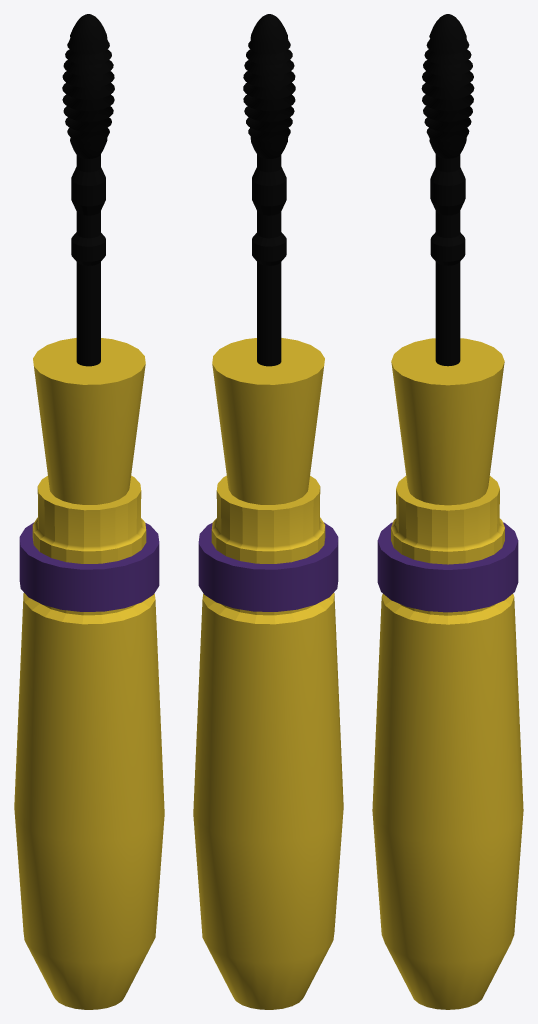
Rendered from colossal.fbx.
3 views of the same model, side by side, from view 1: azimuth 30°, elevation 25°; view 2: azimuth 150°, elevation 25°; view 3: azimuth 270°, elevation 25° (orthographic).
Visible parts, largest first — view 1: pCylinder5, pSphere2; view 2: pCylinder5, pSphere2; view 3: pCylinder5, pSphere2.
Part boxes in pixels (bbox=[...]): pCylinder5: bbox=[14, 475, 164, 1009]; pSphere2: bbox=[33, 14, 145, 504]; pCylinder5: bbox=[193, 475, 343, 1009]; pSphere2: bbox=[212, 14, 324, 504]; pCylinder5: bbox=[372, 476, 523, 1009]; pSphere2: bbox=[391, 14, 504, 505].
Size of the model in its own units: 0.4781 by 3.42 by 0.4781.
